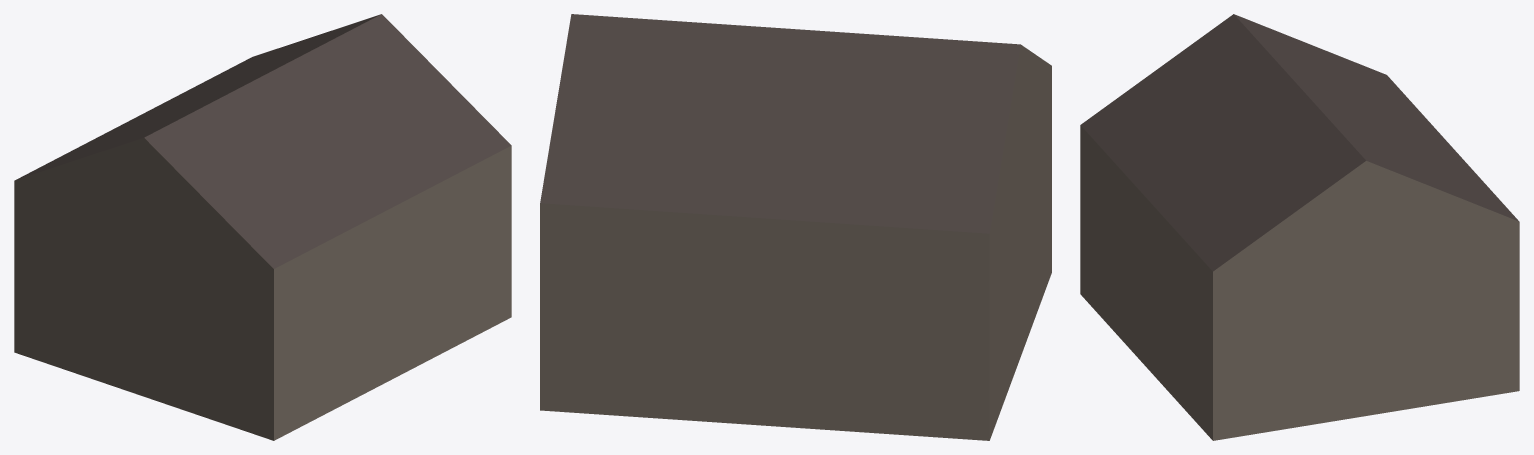
The picture shows the model from 3 angles, left to right: view 1: azimuth 30°, elevation 25°; view 2: azimuth 150°, elevation 25°; view 3: azimuth 270°, elevation 25°; orthographic projection. The views are drawn at different scales.
Parts seen in each view (by area): view 1: HP-w859082505; view 2: HP-w859082505; view 3: HP-w859082505.
Boxes of the visible parts, x1=… form: HP-w859082505: x1=14, y1=14, x2=511, y2=440; HP-w859082505: x1=540, y1=14, x2=1051, y2=440; HP-w859082505: x1=1080, y1=14, x2=1519, y2=440.
Bounding box in the file's own units: 14.95 × 9.05 × 14.1.
